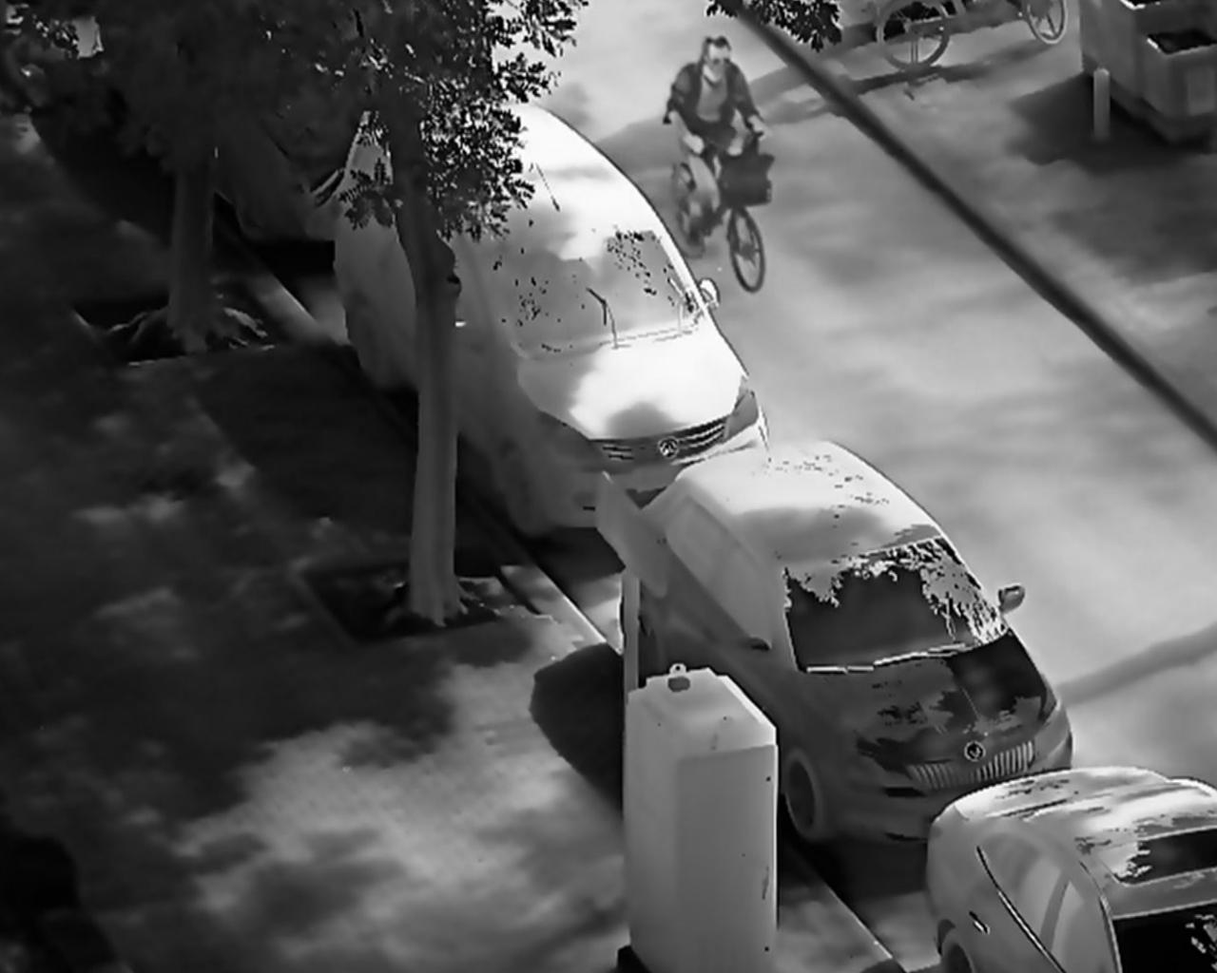person: (665, 29, 772, 252)
